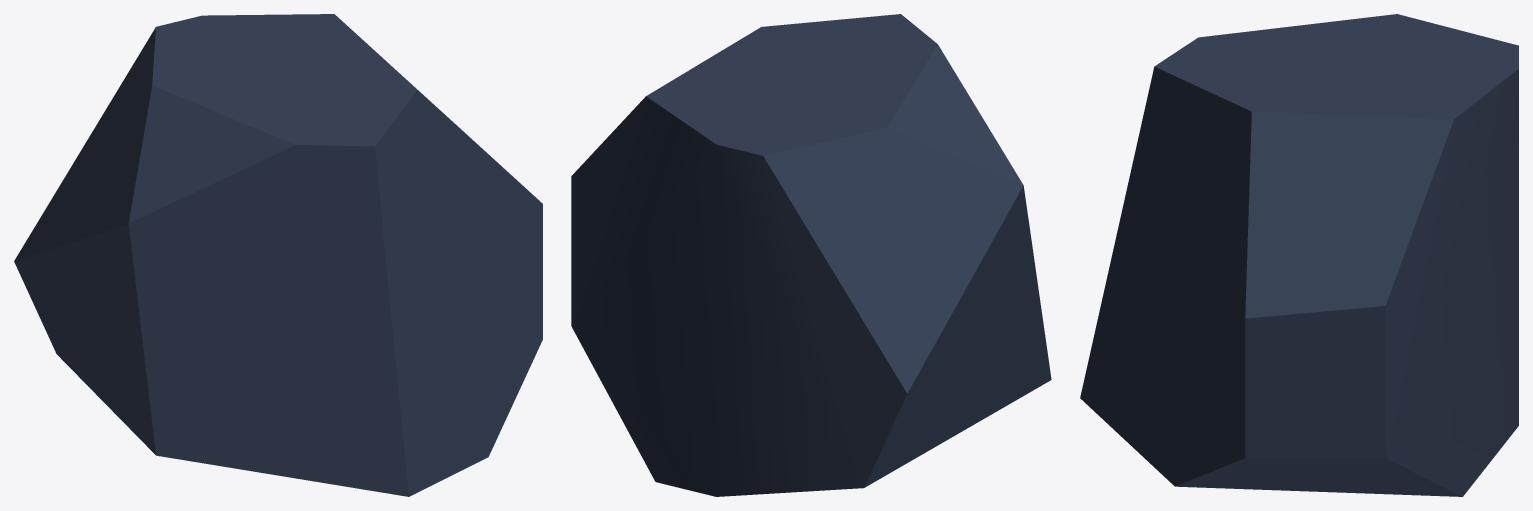
File: Coal C.fbx
3 renders of one model, left to right at view 1: azimuth 30°, elevation 25°; view 2: azimuth 150°, elevation 25°; view 3: azimuth 270°, elevation 25°, orthographic. The views are drawn at different scales.
Parts seen in each view (by area): view 1: Coal C; view 2: Coal C; view 3: Coal C.
Boxes of the visible parts, x1,y1,x2,y2 form: Coal C: (14,14,542,496); Coal C: (571,14,1051,496); Coal C: (1080,14,1518,496).
Size of the model in its own units: 51.62 by 46.58 by 48.19.
